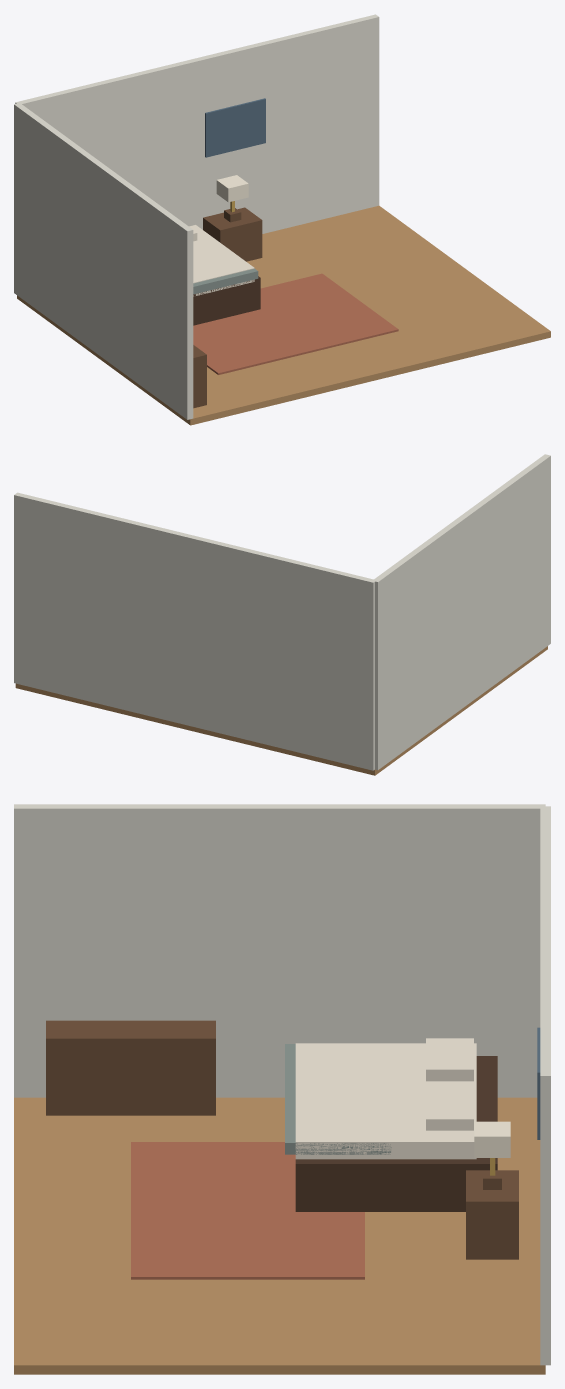
Rendered from room.obj.
3 renders of one model, top to bottom at view 1: azimuth 30°, elevation 25°; view 2: azimuth 150°, elevation 25°; view 3: azimuth 270°, elevation 25°, orthographic. The views are drawn at different scales.
Visible parts, largest first — view 1: wall_back, wall_left, floor, rug, art, bed_base, nightstand, mattress, cabinet, duvet, lamp_shade; view 2: wall_back, wall_left, floor; view 3: wall_left, floor, rug, mattress, cabinet, bed_base, wall_back, nightstand, pillow_1, pillow_2, duvet, lamp_shade.
Part boxes in pixels (<box>): wall_back: <box>15,14,379,233</box>; wall_left: <box>14,103,193,419</box>; floor: <box>17,205,550,425</box>; rug: <box>193,273,398,374</box>; art: <box>205,98,265,157</box>; bed_base: <box>193,276,260,325</box>; nightstand: <box>203,207,262,261</box>; mattress: <box>189,225,254,296</box>; cabinet: <box>193,345,206,408</box>; duvet: <box>193,268,258,294</box>; lamp_shade: <box>216,175,248,202</box>; wall_back: <box>14,492,376,770</box>; wall_left: <box>374,454,550,769</box>; floor: <box>15,646,547,775</box>; wall_left: <box>14,804,545,1097</box>; floor: <box>14,1097,545,1374</box>; rug: <box>131,1142,364,1279</box>; mattress: <box>295,1043,476,1159</box>; cabinet: <box>46,1020,215,1115</box>; bed_base: <box>295,1056,497,1211</box>; wall_back: <box>540,806,550,1365</box>; nightstand: <box>466,1170,518,1259</box>; pillow_1: <box>426,1038,473,1081</box>; pillow_2: <box>426,1087,473,1130</box>; duvet: <box>285,1044,391,1154</box>; lamp_shade: <box>474,1121,510,1157</box>.
Bounding box in the file's own units: 6.05 × 3.1 × 5.05.
